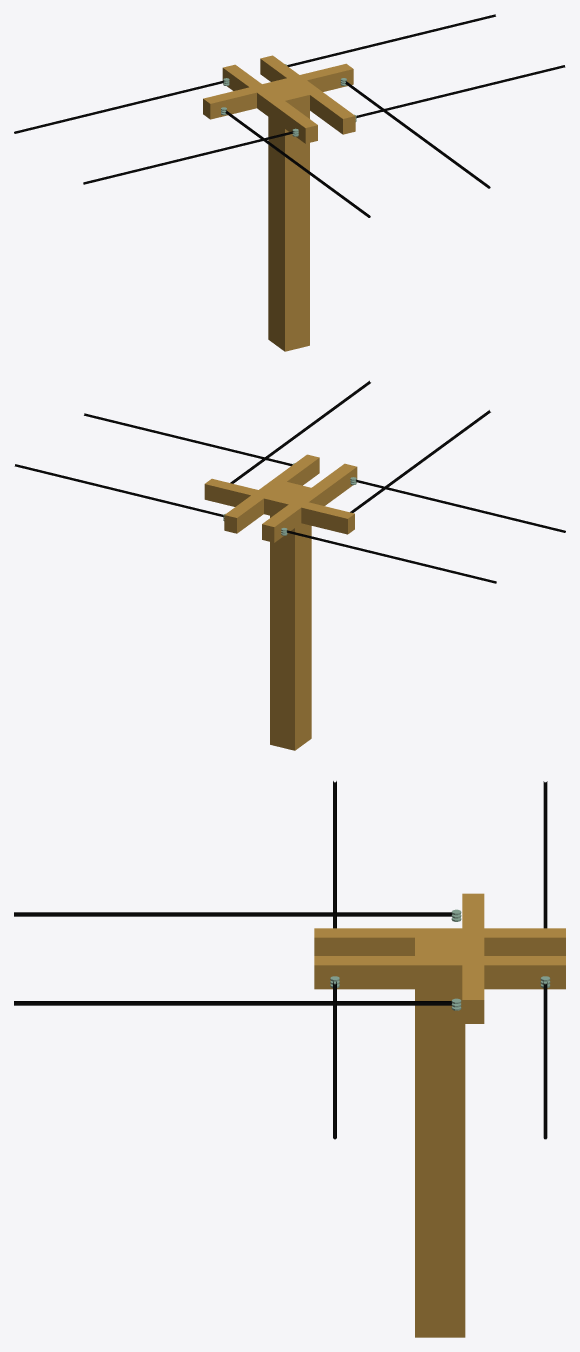
The picture shows the model from 3 angles, top to bottom: view 1: azimuth 30°, elevation 25°; view 2: azimuth 150°, elevation 25°; view 3: azimuth 270°, elevation 25°; orthographic projection. The views are drawn at different scales.
Parts seen in each view (by area): view 1: WR24 | archived geometry, WR24 | line, light and sprite surfaces; view 2: WR24 | archived geometry, WR24 | line, light and sprite surfaces; view 3: WR24 | archived geometry, WR24 | line, light and sprite surfaces.
Part boxes in pixels (x1,y1,x2,y2): WR24 | archived geometry: (203, 55, 355, 351); WR24 | line, light and sprite surfaces: (14, 14, 565, 217); WR24 | archived geometry: (204, 454, 357, 750); WR24 | line, light and sprite surfaces: (14, 380, 565, 583); WR24 | archived geometry: (314, 893, 565, 1337); WR24 | line, light and sprite surfaces: (14, 781, 547, 1139).
Size of the model in its own units: 16.07 by 8 by 10.49.
